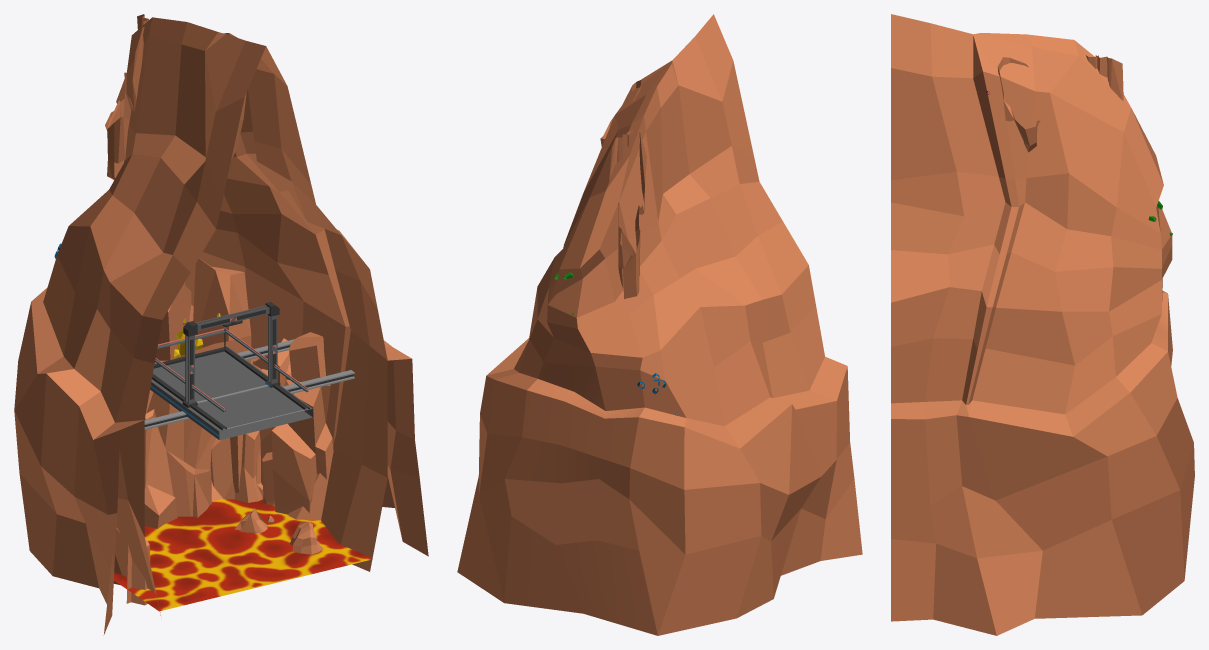
The model's file is Cavern_Dead_End_Tunnel.fbx.
The picture shows the model from 3 angles, left to right: view 1: azimuth 30°, elevation 25°; view 2: azimuth 150°, elevation 25°; view 3: azimuth 270°, elevation 25°; orthographic projection. The views are drawn at different scales.
Parts seen in each view (by area): view 1: Cavern_Dead_End_Tunnel, Cavern_Dead_End_Tunnel_W, Cavern_Dead_End_Tunnel_E, Cavern_Dead_End_Tunnel_Walkway; view 2: Cavern_Dead_End_Tunnel, Cavern_Dead_End_Tunnel_W, Cavern_Dead_End_Tunnel_E; view 3: Cavern_Dead_End_Tunnel_E, Cavern_Dead_End_Tunnel, Cavern_Dead_End_Tunnel_W.
Boxes of the visible parts, left/top/right/bottom form: Cavern_Dead_End_Tunnel: left=14, top=252, right=428, bottom=635; Cavern_Dead_End_Tunnel_W: left=43, top=14, right=265, bottom=422; Cavern_Dead_End_Tunnel_E: left=203, top=33, right=387, bottom=360; Cavern_Dead_End_Tunnel_Walkway: left=144, top=302, right=354, bottom=440; Cavern_Dead_End_Tunnel: left=457, top=338, right=862, bottom=635; Cavern_Dead_End_Tunnel_W: left=576, top=14, right=824, bottom=426; Cavern_Dead_End_Tunnel_E: left=514, top=60, right=671, bottom=410; Cavern_Dead_End_Tunnel_E: left=891, top=14, right=1172, bottom=414; Cavern_Dead_End_Tunnel: left=891, top=290, right=1194, bottom=635; Cavern_Dead_End_Tunnel_W: left=974, top=33, right=1163, bottom=184.
Bounding box in the file's own units: 1902 × 2844 × 1459.
